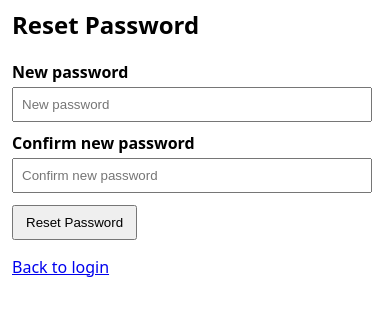
Scenario: ResetPassword page › shows mismatch error and does not submit
This screenshot has width=389, height=322.
Type "Pass1234" into the password field with placeholder "New password". click: x=192, y=104
box: [12, 87, 372, 122]
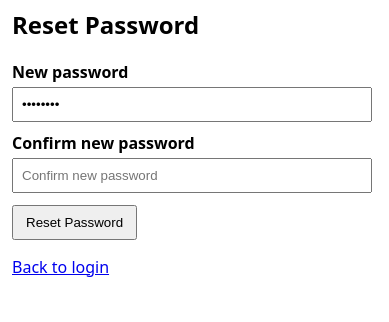
Type "Different1234" into the password field with placeholder "Confirm new password". click: x=192, y=175
box: [12, 158, 372, 193]
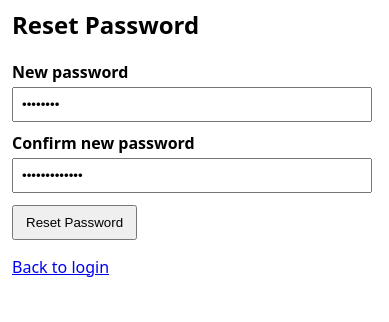
Click the button "Reset Password". click: x=74, y=222
box: [12, 205, 137, 240]
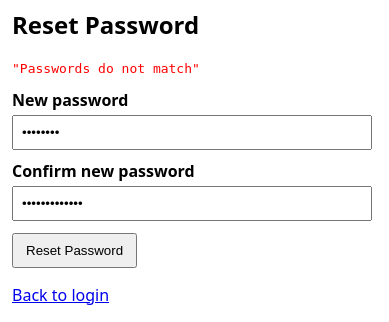
Check: the text "\"Passwords do not match\"" is shown, box [12, 61, 200, 76]
